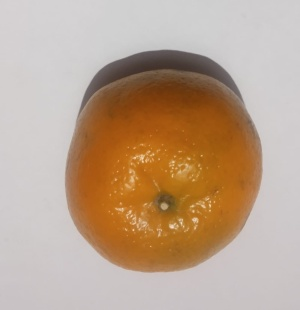BAD: (60, 66, 266, 274)
